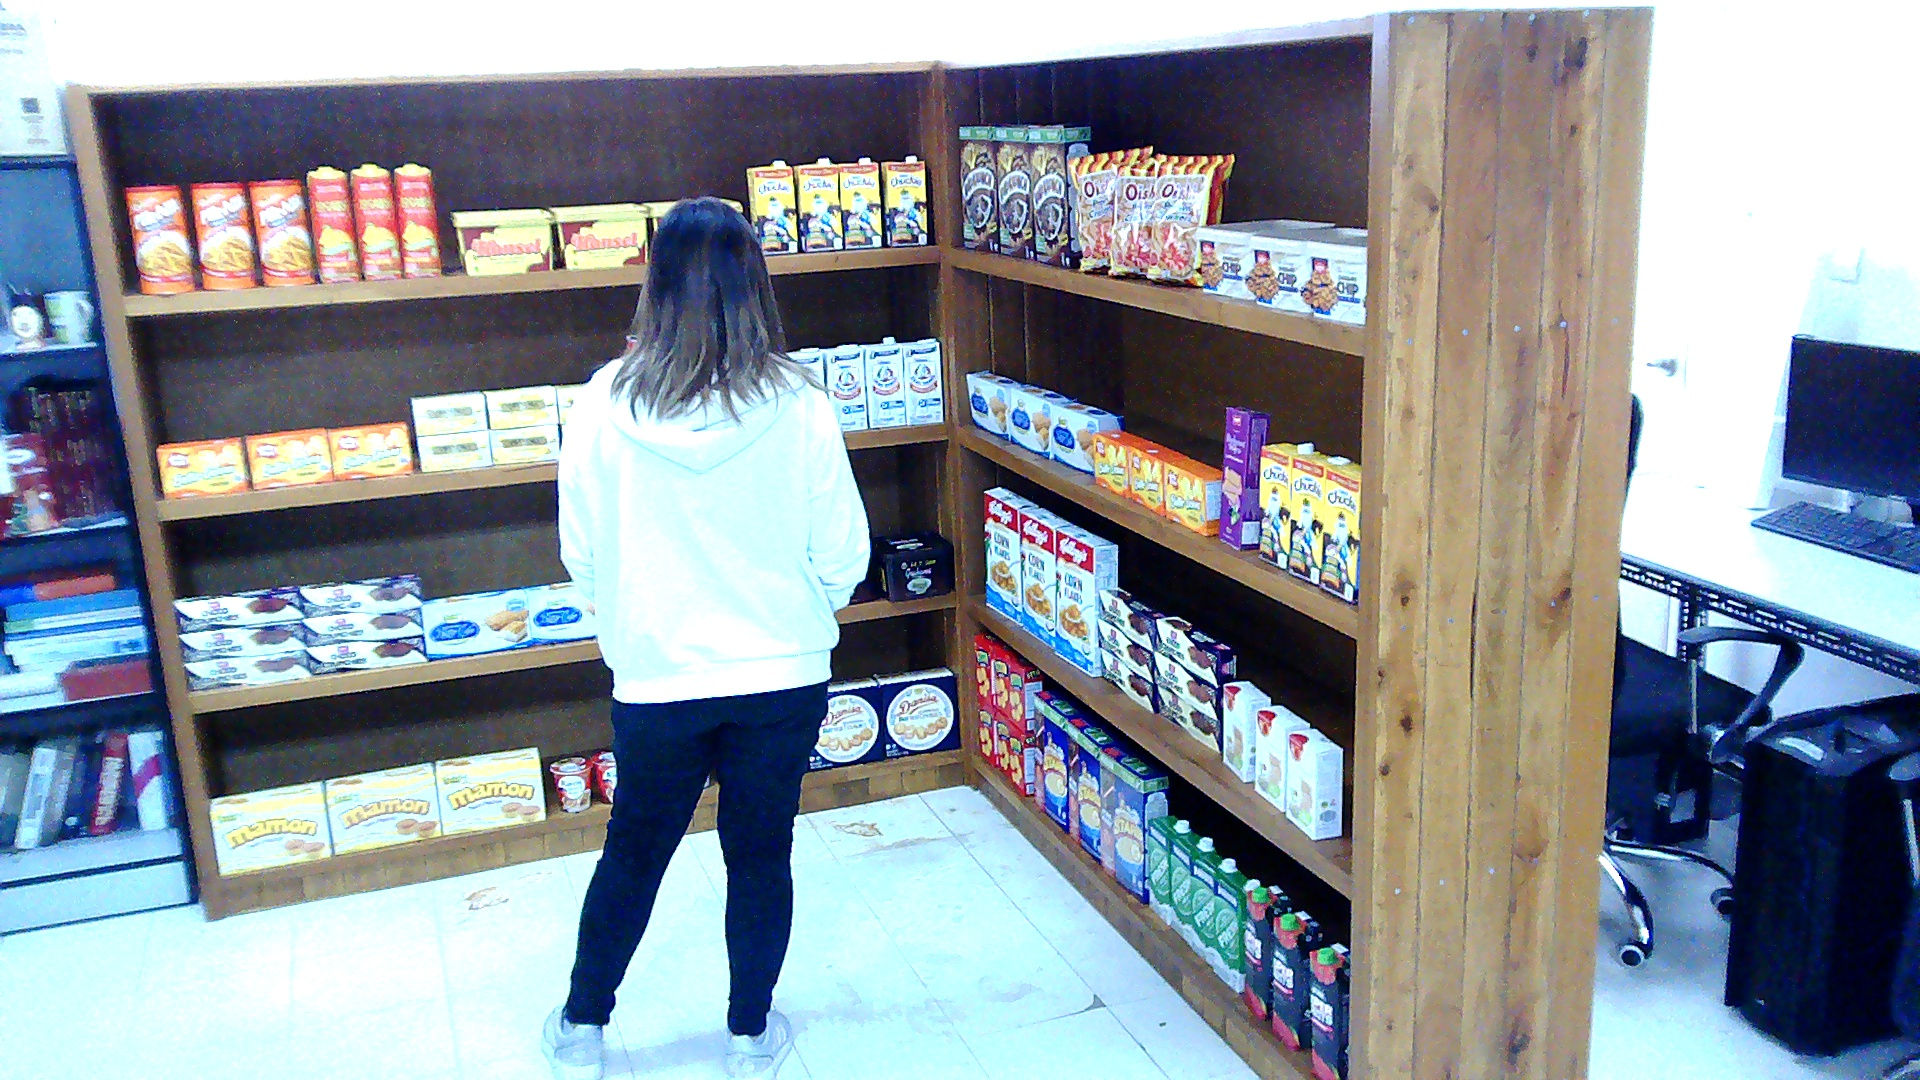Bear brand: (858, 335, 906, 427), (819, 344, 867, 430), (896, 337, 941, 423)
Buttercake: (419, 587, 530, 659), (1049, 401, 1124, 475), (1011, 383, 1077, 459), (522, 580, 594, 645), (966, 369, 1023, 441)
Butterlicious: (156, 436, 249, 497), (327, 420, 417, 479), (243, 427, 330, 488), (1128, 441, 1188, 515), (1164, 459, 1221, 535), (1092, 427, 1152, 495)
Camomille: (411, 389, 486, 434), (483, 384, 558, 427), (417, 430, 492, 470), (486, 423, 558, 463)
Choco Crunchies: (170, 585, 299, 632), (1152, 614, 1236, 686), (297, 571, 423, 616), (177, 618, 303, 661), (306, 632, 426, 675), (183, 647, 306, 690), (299, 606, 422, 646), (1152, 650, 1221, 720), (1157, 684, 1220, 754), (1098, 584, 1167, 647), (1098, 616, 1152, 684), (1100, 650, 1157, 713)
Chocolate Chips: (1194, 218, 1338, 299), (1248, 227, 1353, 313), (1308, 227, 1368, 324)
Chuckie: (1286, 455, 1355, 585), (1257, 441, 1320, 569), (1320, 463, 1362, 603), (744, 160, 798, 254), (791, 155, 842, 252), (879, 155, 927, 245), (837, 155, 879, 247)
Danisa: (870, 666, 960, 756), (809, 675, 884, 769)
Fita: (1008, 657, 1044, 731), (990, 642, 1023, 718), (972, 630, 1002, 704), (1008, 720, 1032, 794), (978, 695, 996, 767), (996, 711, 1008, 776)
Fresh Milk: (1212, 871, 1260, 993), (1191, 850, 1239, 965), (1170, 832, 1215, 947), (1149, 815, 1191, 925)
Grahams: (870, 531, 954, 601)
Hansel: (450, 207, 555, 275), (549, 202, 648, 270)
Head: (642, 191, 768, 351)
Honey Stars: (1098, 742, 1170, 902), (1065, 711, 1119, 864), (1032, 689, 1080, 833)
Kellogg Corn Flakes: (1053, 524, 1116, 677), (984, 486, 1038, 626), (1019, 506, 1070, 648)
Kimchi Noodles: (549, 754, 591, 810), (591, 747, 618, 803)
Koko Krunch: (993, 123, 1059, 260), (1029, 124, 1092, 266), (957, 122, 1008, 252)
Locally Mango: (348, 162, 402, 279), (306, 166, 360, 281), (393, 161, 441, 276)
Mamon: (207, 781, 333, 875), (321, 761, 441, 855), (435, 745, 543, 835)
Oishi Prawn: (1145, 152, 1232, 285), (1068, 144, 1152, 270), (1107, 155, 1155, 277)
Pik-nik: (123, 185, 195, 295), (246, 178, 315, 286), (189, 182, 255, 288)
Super Fruits: (1272, 909, 1326, 1049), (1241, 882, 1292, 1019), (1308, 942, 1350, 1077)
Wafer: (1217, 405, 1268, 549)
iHop: (1287, 726, 1341, 839), (1254, 704, 1308, 810), (1221, 679, 1269, 782)
